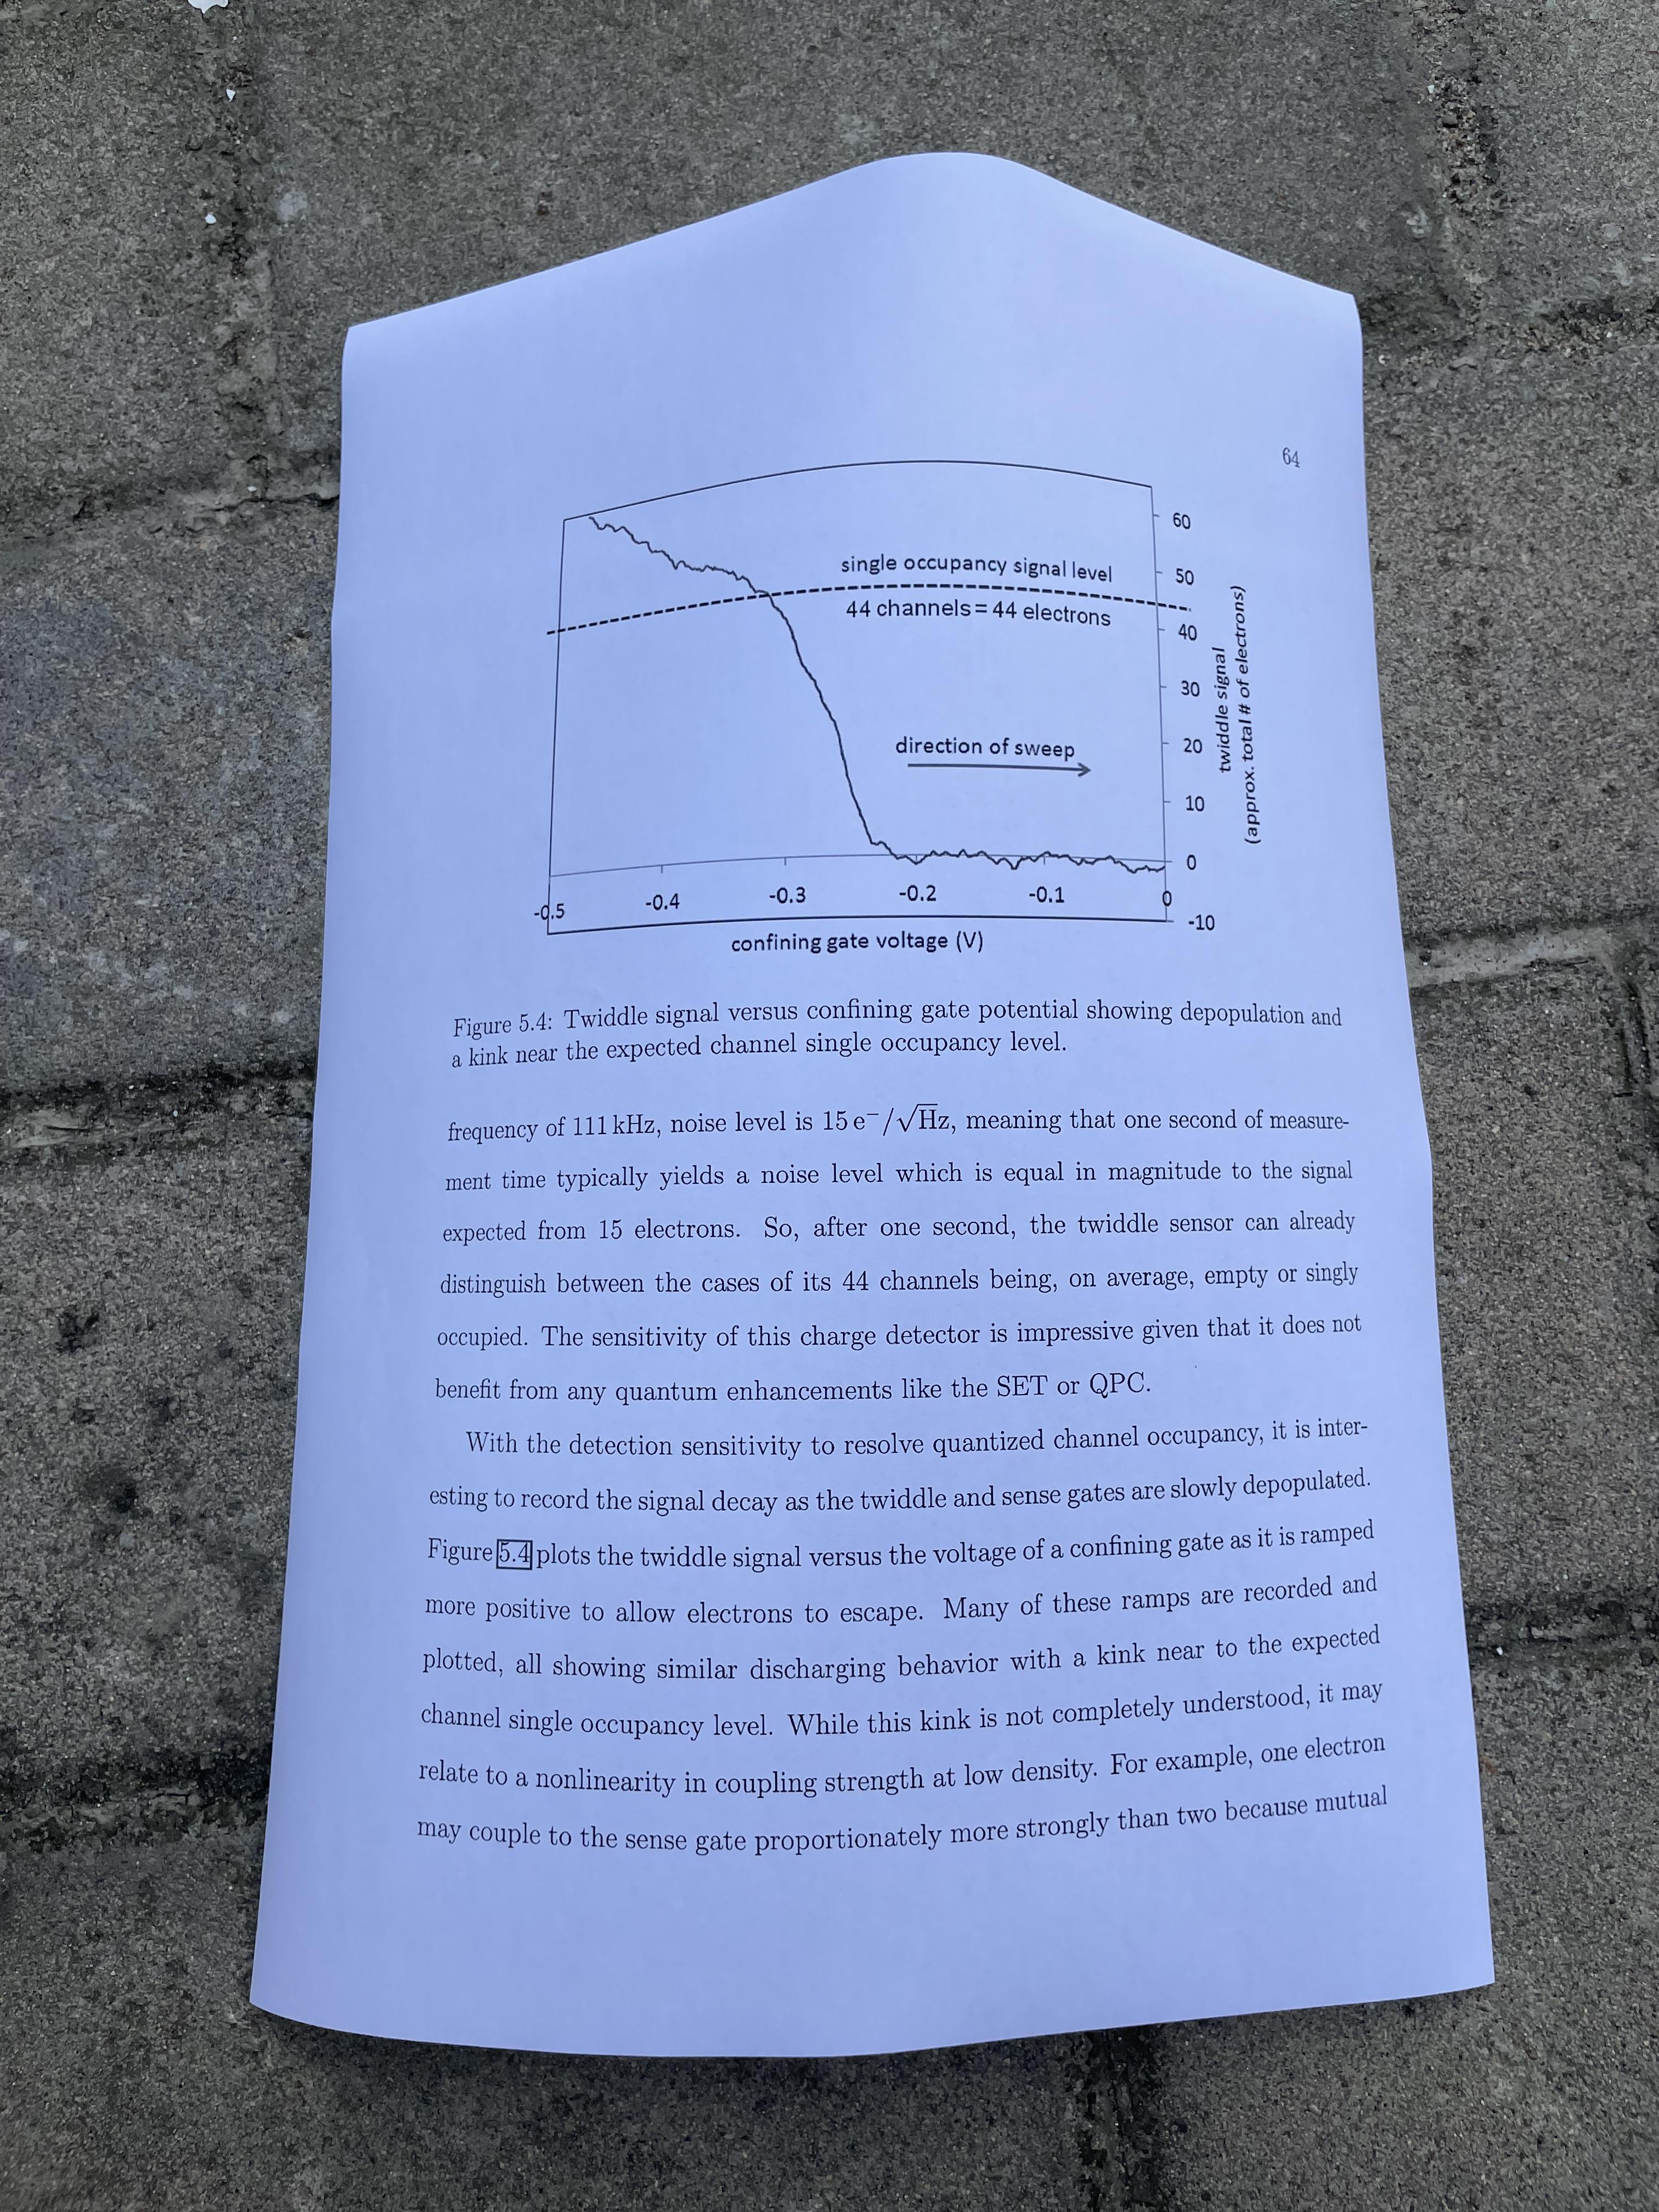paper: (113, 134, 1539, 2170)
